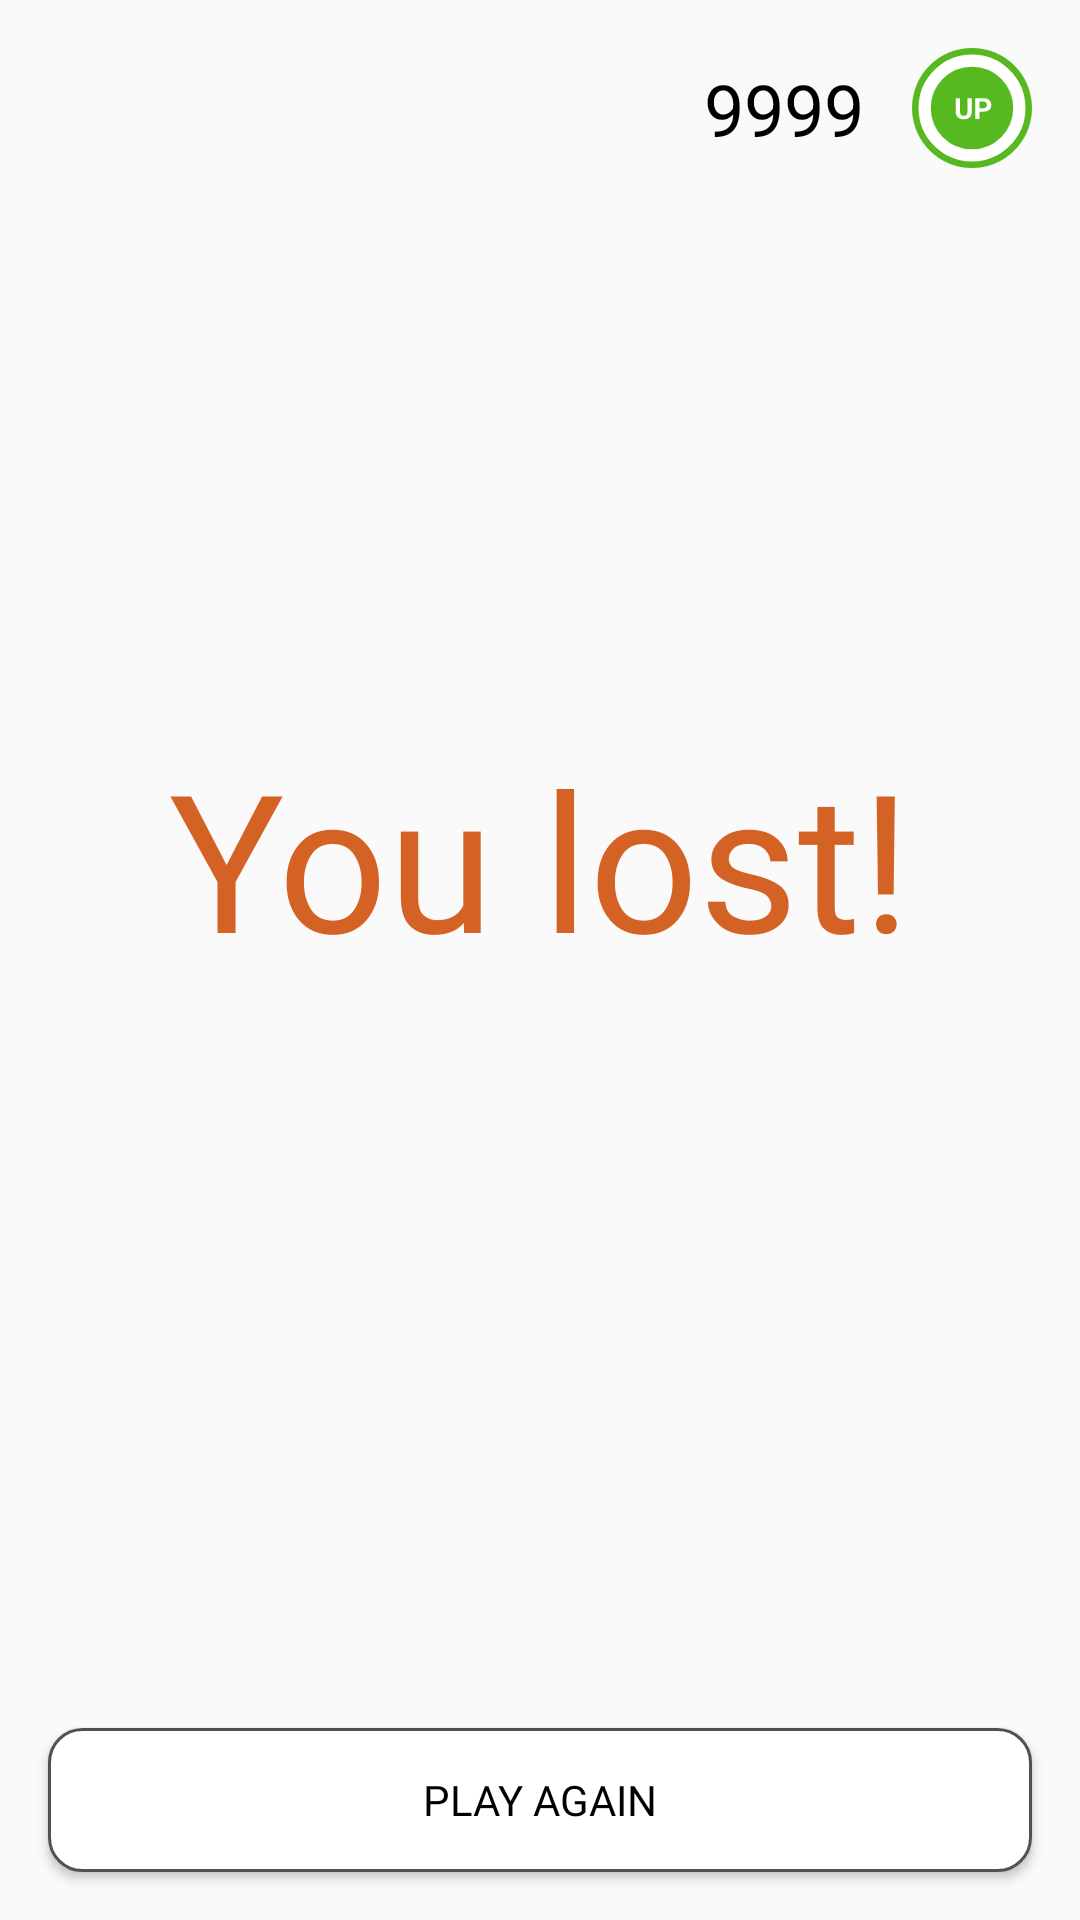

Named icons in this screenshot (1080*1920) and their centers, [x,y]:
up coin: [972,108]
